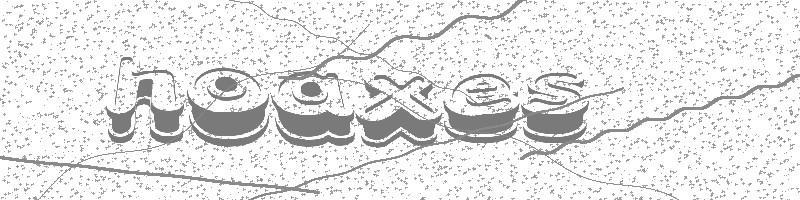a: (274, 69, 355, 148)
e: (444, 71, 520, 146)
h: (105, 54, 186, 144)
o: (186, 66, 273, 145)
s: (521, 68, 592, 145)
x: (355, 72, 442, 149)
